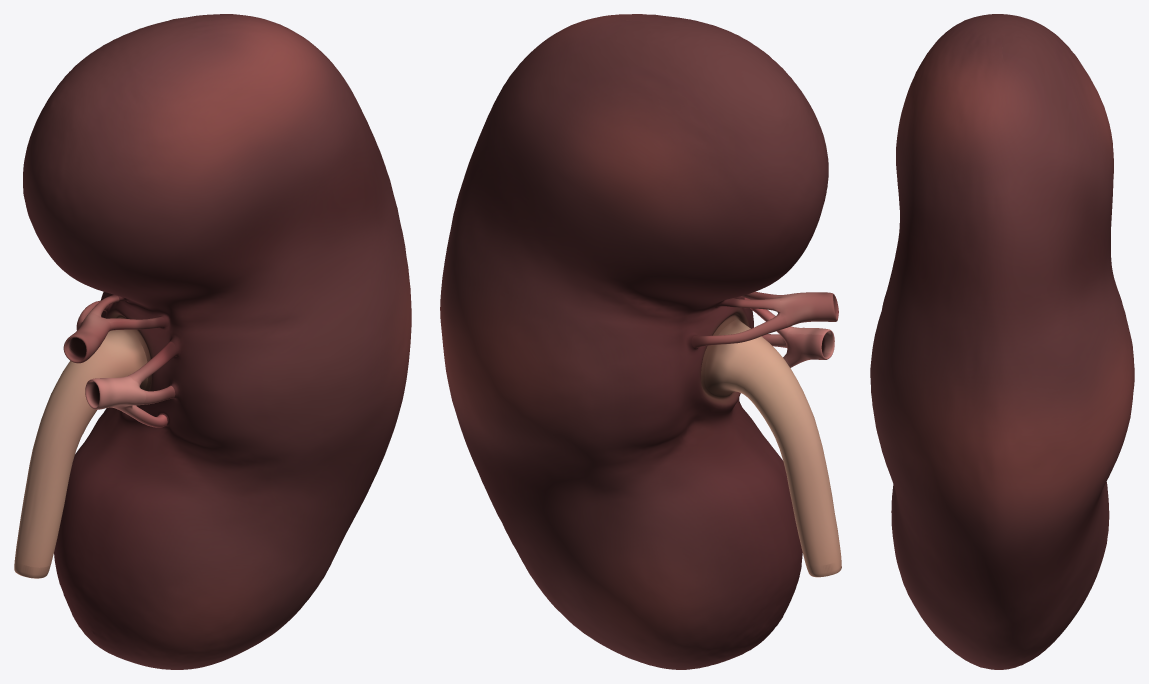
The model's file is kidney.glb.
The picture shows the model from 3 angles, left to right: view 1: azimuth 30°, elevation 25°; view 2: azimuth 150°, elevation 25°; view 3: azimuth 270°, elevation 25°; orthographic projection. The views are drawn at different scales.
Parts seen in each view (by area): view 1: Kidney_003; view 2: Kidney_003; view 3: Kidney_003.
Part boxes in pixels (<box>): Kidney_003: <box>14,14,411,669</box>; Kidney_003: <box>440,14,841,669</box>; Kidney_003: <box>870,14,1134,669</box>.
Bounding box in the file's own units: 0.4323 × 0.6777 × 0.2633.
Materials: 1 (1 with a texture image).
